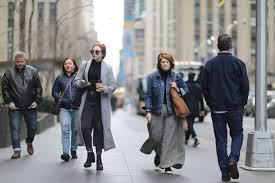Person: (200, 33, 250, 183), (139, 52, 191, 176), (73, 42, 116, 170), (1, 51, 43, 161), (51, 56, 83, 163)
